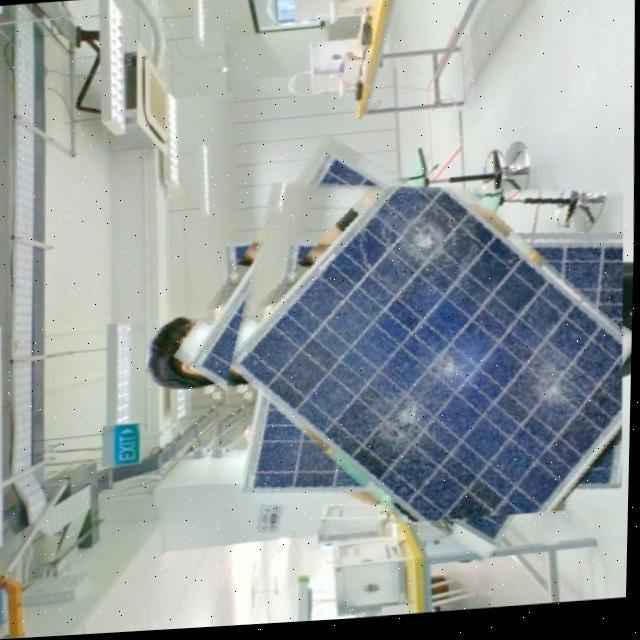Anomaly Solar Panel: (235, 193, 622, 529)
Structural Damage: (369, 341, 474, 464), (368, 196, 464, 311), (503, 329, 584, 451)
